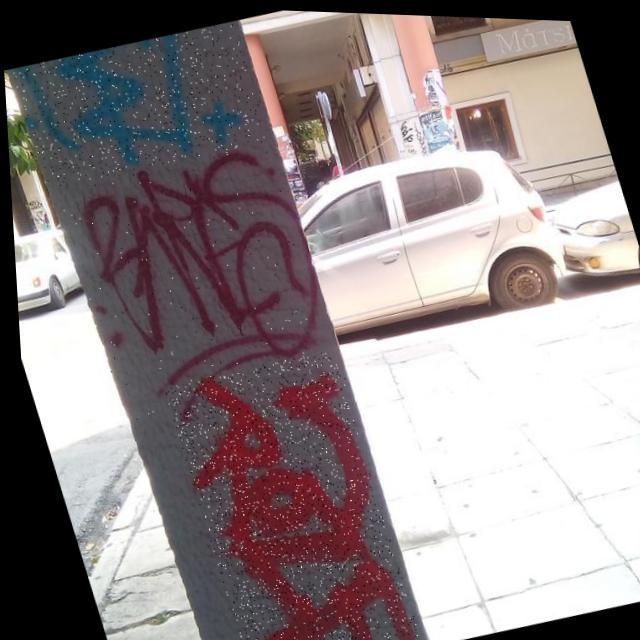-: (50, 131, 352, 441), (156, 341, 416, 640), (6, 12, 270, 194)
